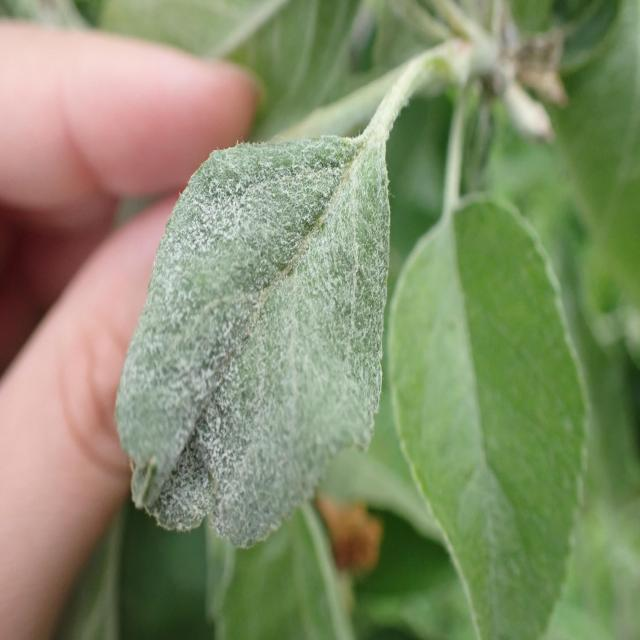Powdery_mildew: (114, 95, 390, 562)
